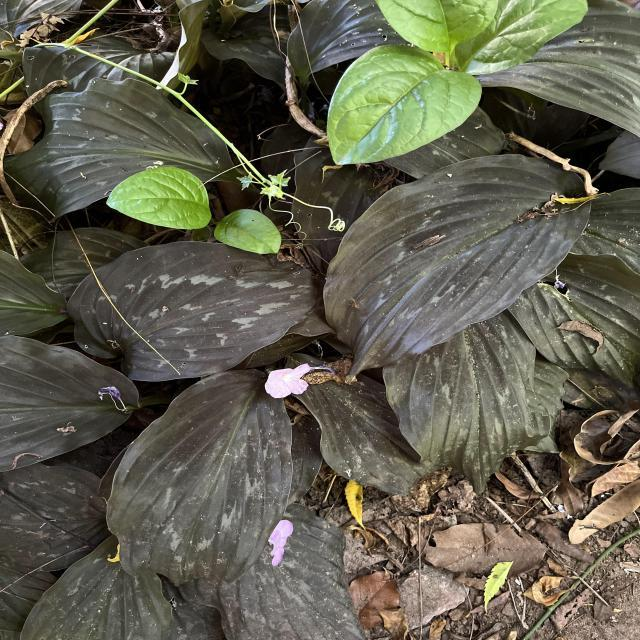Kaempferia galanga linn: (320, 152, 596, 378), (104, 366, 296, 588), (61, 238, 325, 382), (380, 310, 554, 497)
